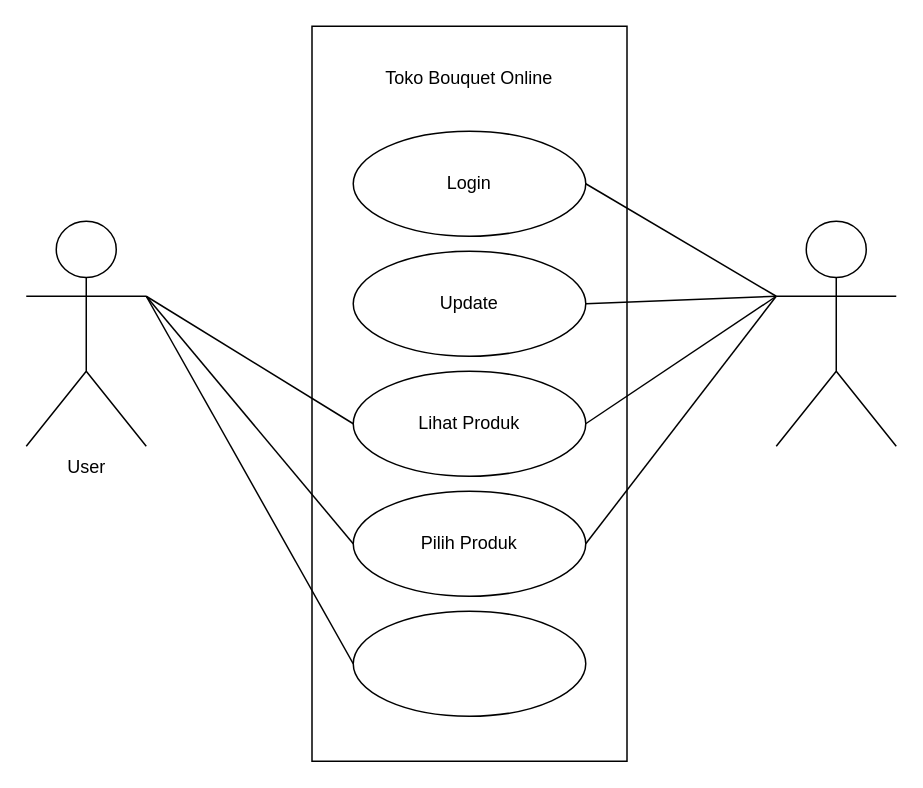
This 923x788 diagram has some shape labels left out. The box of each missing label's shape, as (x1, y1, x2, y2) in pixels:
Admin: (775, 220, 896, 446)
Order: (352, 610, 586, 716)
